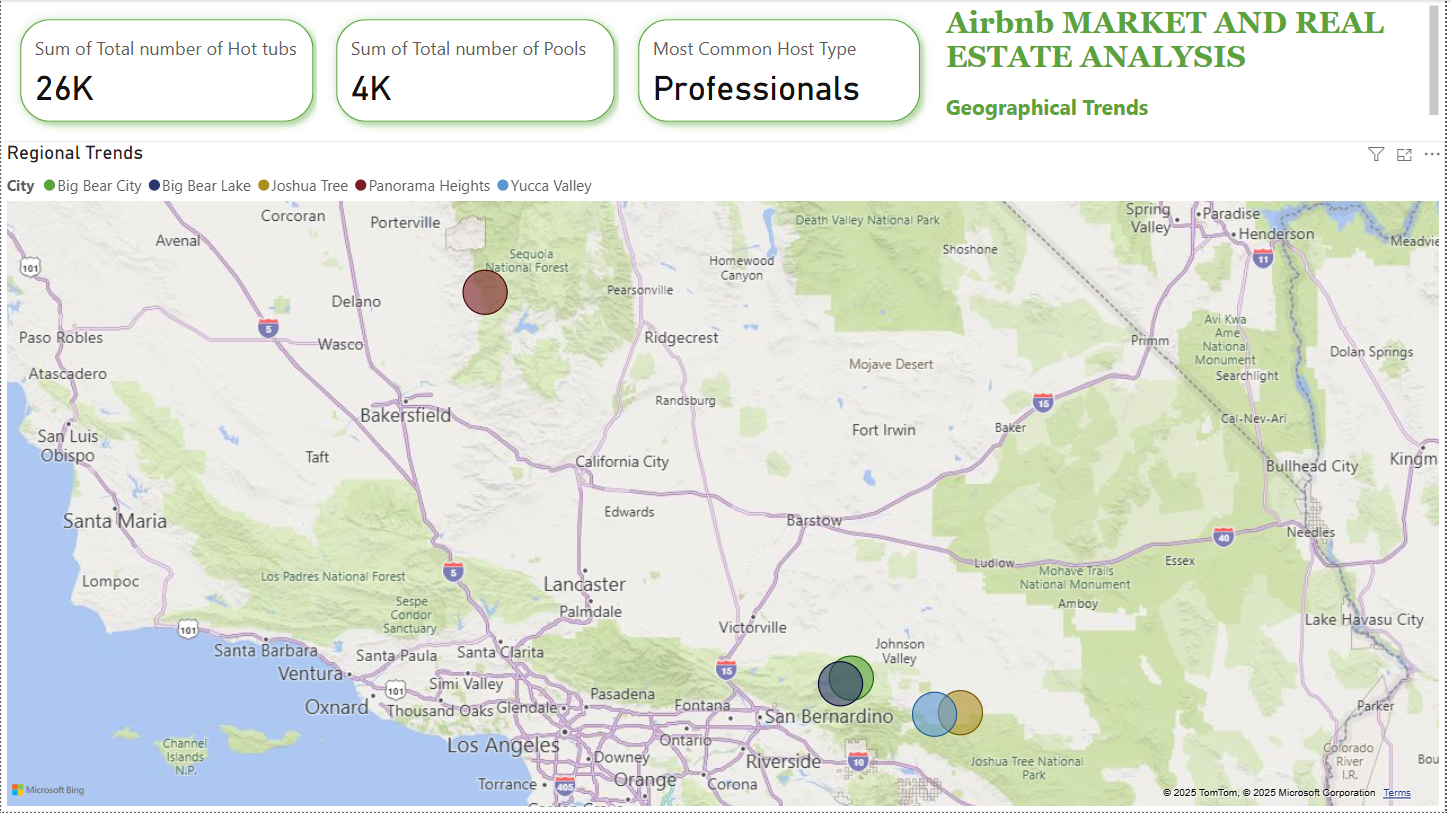

The page's visual inventory and layout, read from the dashboard file:
{"tool":"powerbi","page":{"name":"Dashboard 3","canvas":[1280,720],"ordinal":2},"visuals":[{"type":"textbox","box":[832.6,0,447.4,125.5],"z":1000},{"type":"cardVisual","fields":{"Data":["Sum(Amenities calculations (2).Hot hub)"]},"box":[0,0,294.8,125],"z":2000},{"type":"cardVisual","title":"Total number of Pools","fields":{"Data":["Sum(Amenities calculations (2).Pool)"]},"box":[280.2,0,281.2,125],"z":3000},{"type":"map","title":"Regional Trends","fields":{"Category":["sales_properties.City"],"Y":["Avg(geolocation.Latitude)"],"Size":["Sum(market_analysis_clean.Revenue)"],"Series":["sales_properties.City"]},"box":[0,125,1280.4,595],"z":4000},{"type":"cardVisual","fields":{"Data":["Amenities calculations (2).Most Common Host Type"]},"box":[547.9,0,284.4,125],"z":5000}]}

Visuals, with their boxes in screenshot pixels (x1, y1, x2, y2), scaled from the page's 1280x720 canvas onto the 1451x813 screenshot:
textbox: {"x1": 944, "y1": 0, "x2": 1450, "y2": 142}
cardVisual - Sum(Amenities calculations (2).Hot hub): {"x1": 0, "y1": 0, "x2": 334, "y2": 141}
"Total number of Pools" cardVisual: {"x1": 318, "y1": 0, "x2": 636, "y2": 141}
"Regional Trends" map: {"x1": 0, "y1": 141, "x2": 1450, "y2": 812}
cardVisual - Amenities calculations (2).Most Common Host Type: {"x1": 621, "y1": 0, "x2": 943, "y2": 141}
